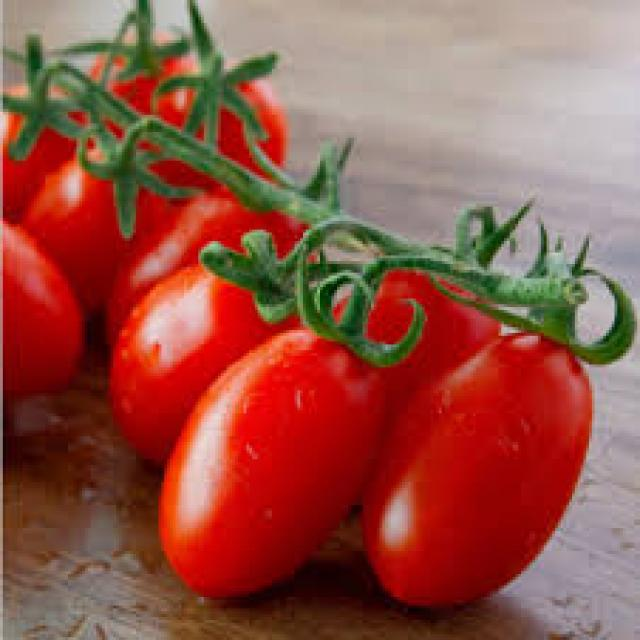organic waste: (357, 316, 592, 608), (156, 316, 371, 600), (108, 250, 356, 453), (113, 186, 323, 313), (25, 144, 173, 316), (340, 253, 501, 393), (147, 72, 283, 210), (0, 218, 79, 393), (2, 86, 90, 224), (102, 20, 193, 135)
